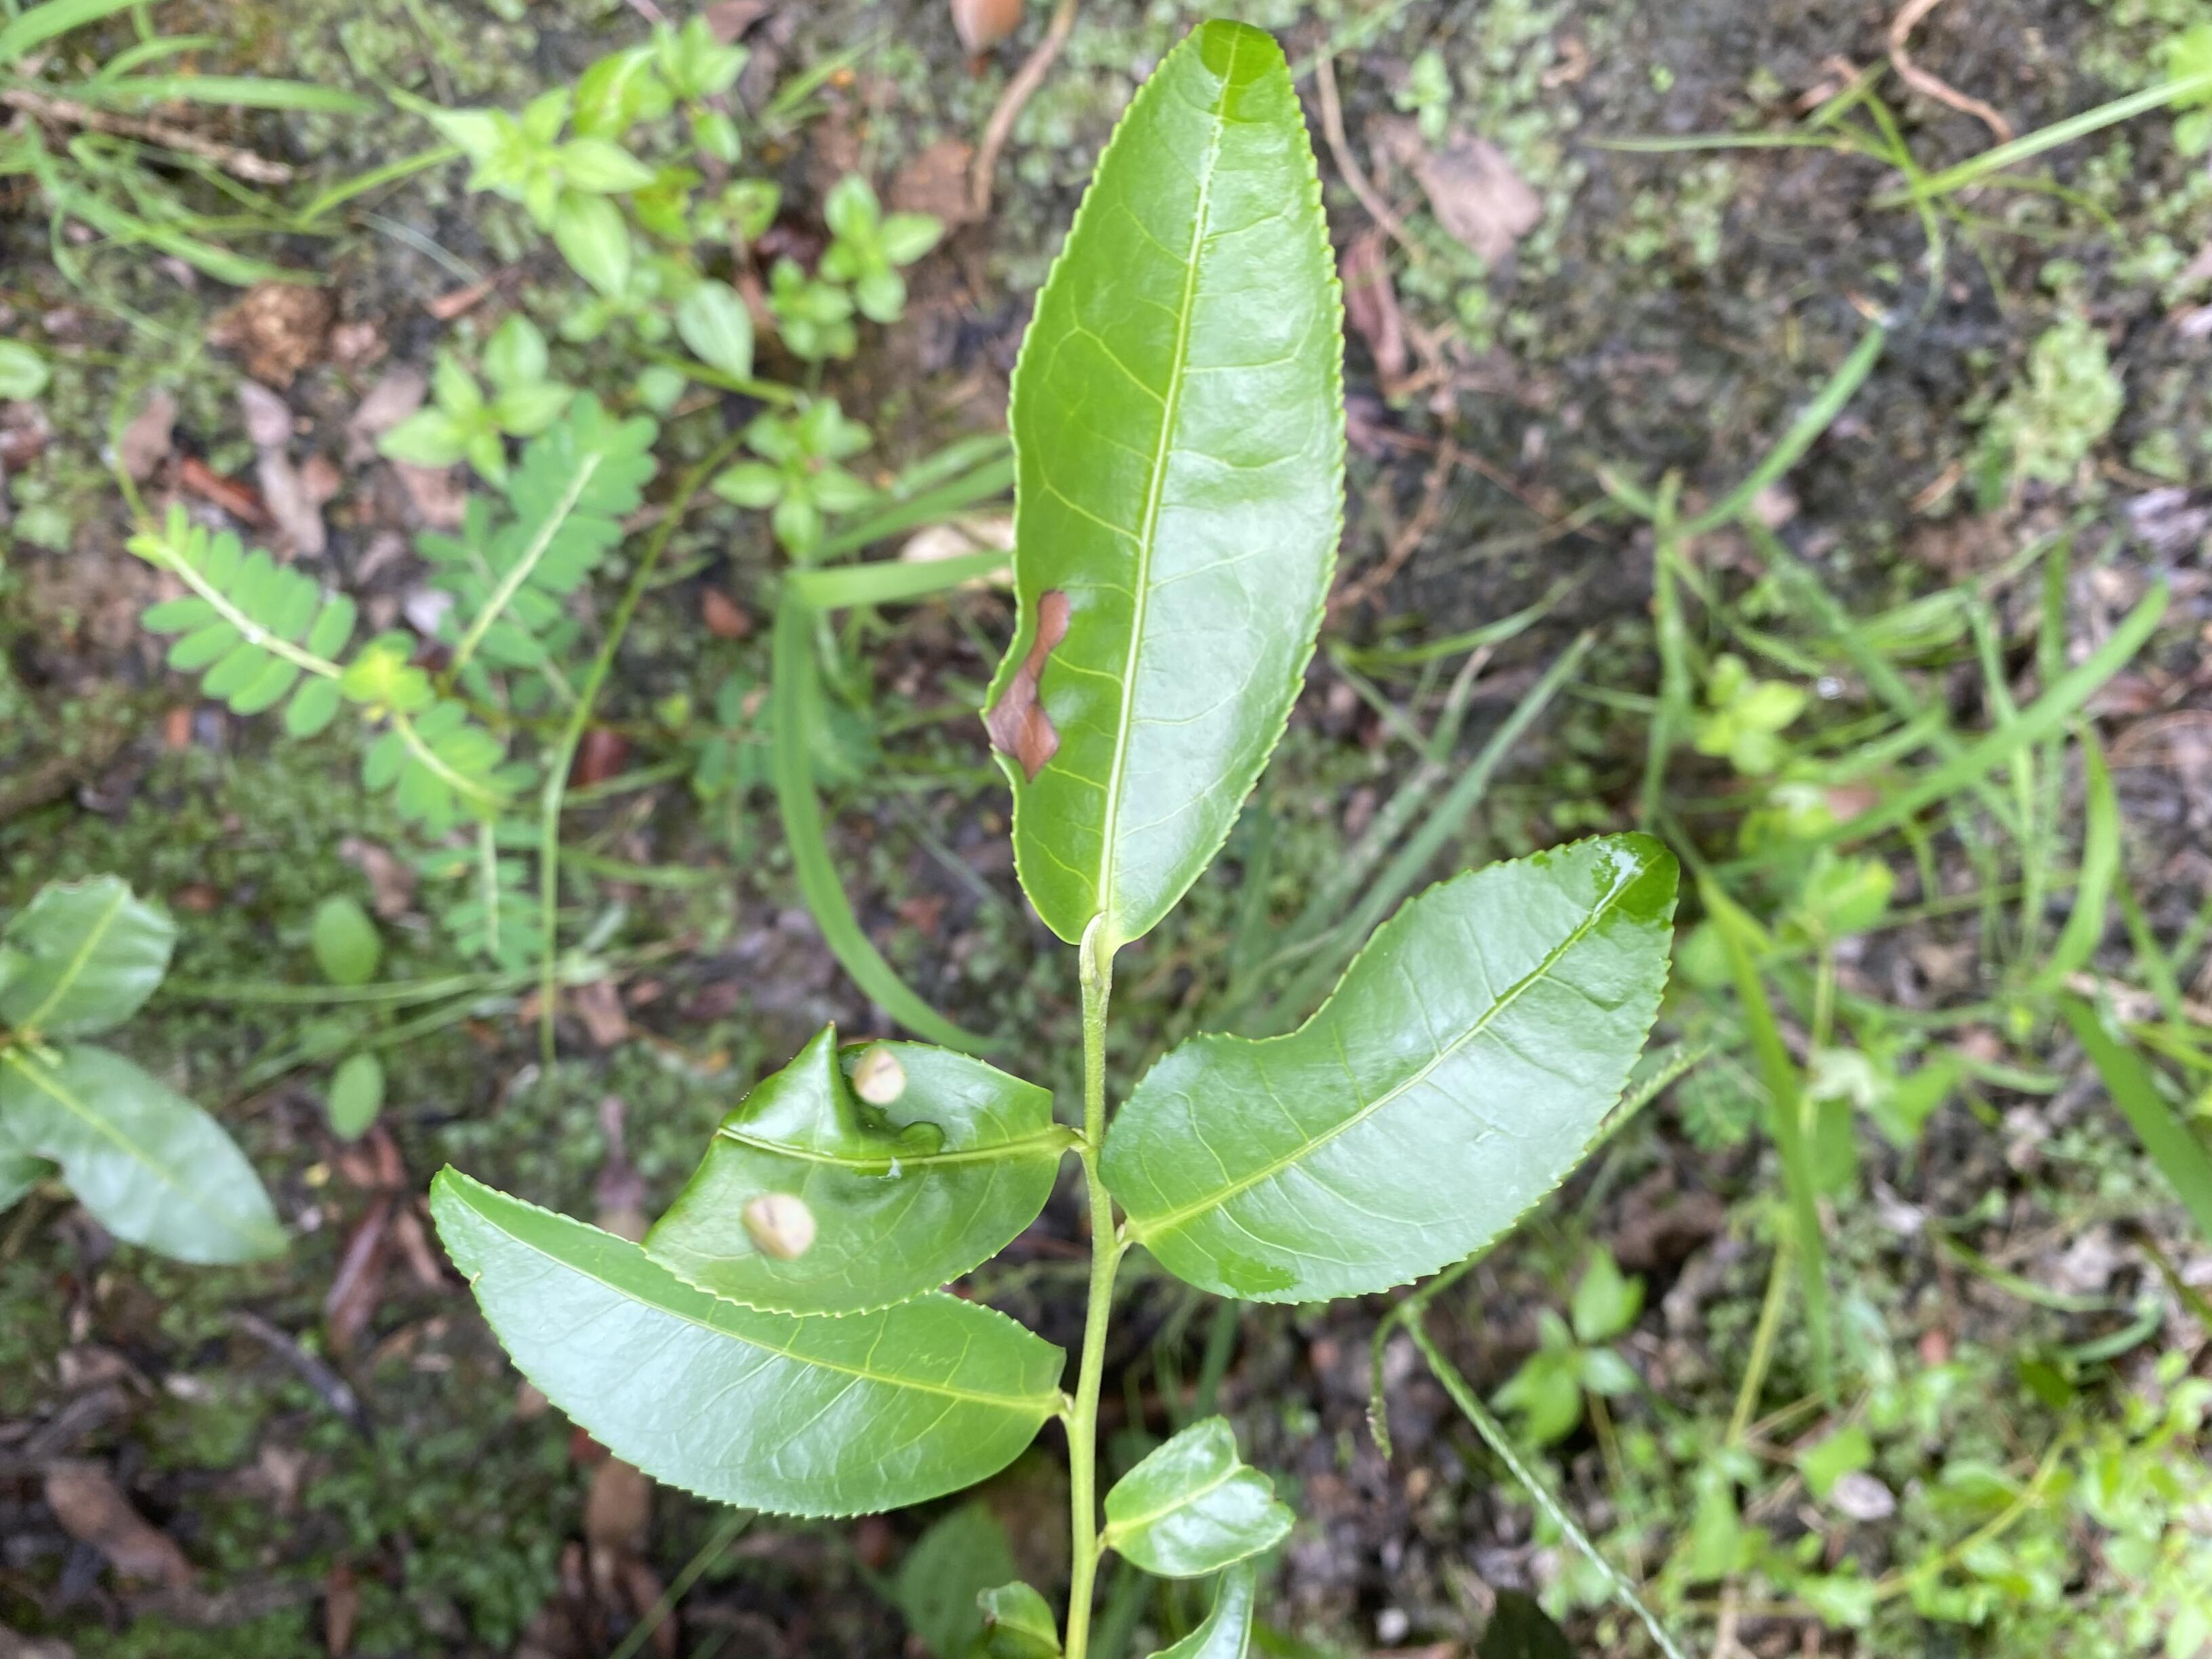chabing_high: (651, 1018, 1071, 1319)
chihuo_high: (1103, 1408, 1296, 1579)
healthy: (1101, 833, 1684, 1305), (428, 1164, 1068, 1518)
tanju_high: (989, 19, 1352, 948)
